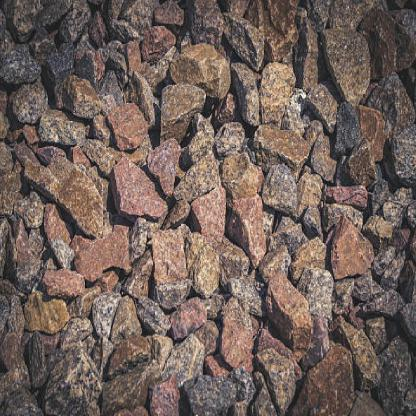Sedimentary_Limestone: (100, 331, 171, 415), (287, 334, 357, 415), (154, 78, 209, 148), (255, 118, 318, 174), (148, 227, 190, 311), (321, 20, 370, 90), (219, 290, 260, 372), (112, 160, 166, 216), (264, 276, 314, 336), (60, 162, 102, 232), (162, 328, 206, 393), (330, 218, 378, 276), (17, 291, 74, 338), (234, 179, 265, 258), (192, 187, 234, 243), (263, 57, 298, 123), (350, 102, 389, 160), (230, 55, 260, 124), (139, 20, 180, 69)
